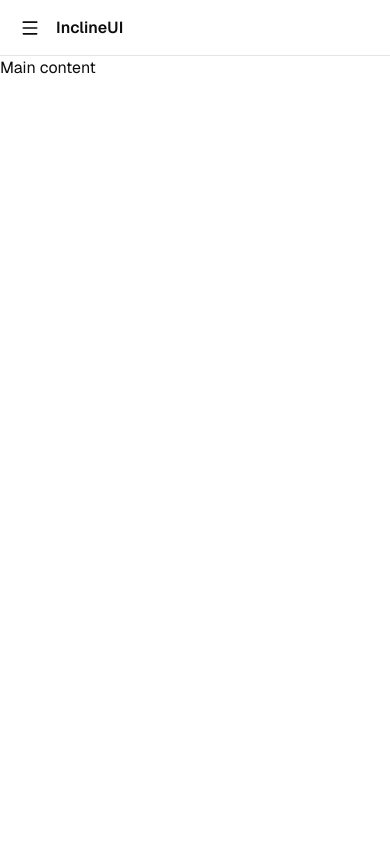
it: <AppShell /> on mobile › opens the drawer and closes it with Escape
Step 1. Click the button named "Open sidebar" → [30, 28], box [12,10,48,46]
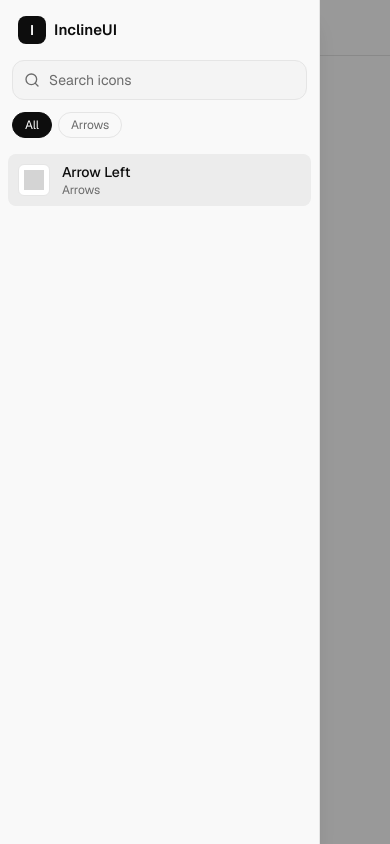
Expected: the search field labelled "Search icons" is shown, [12,60,307,100]
Expected: the button named "Open sidebar" is expanded, [12,10,48,46]
Step 2. Press Escape
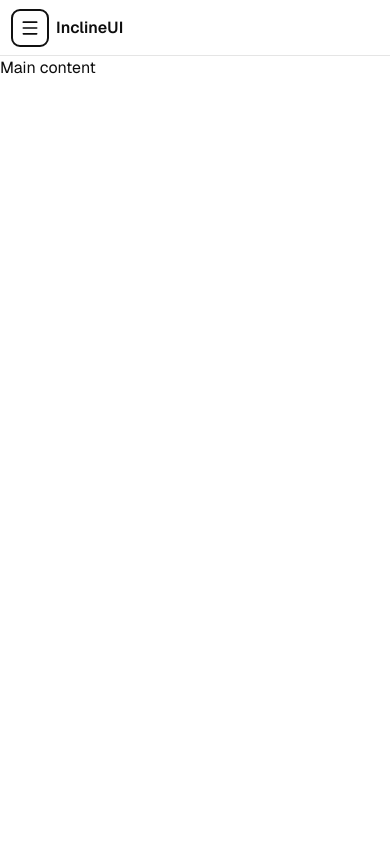
Expected: the dialog is gone
